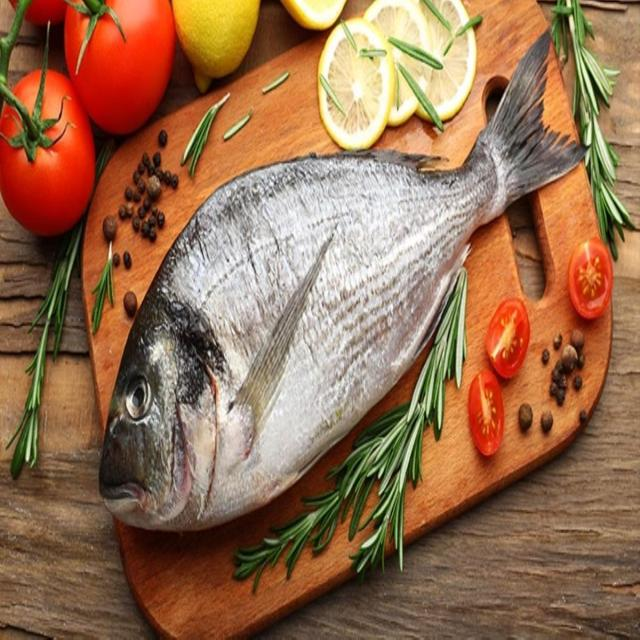pescado: (84, 50, 594, 550)
